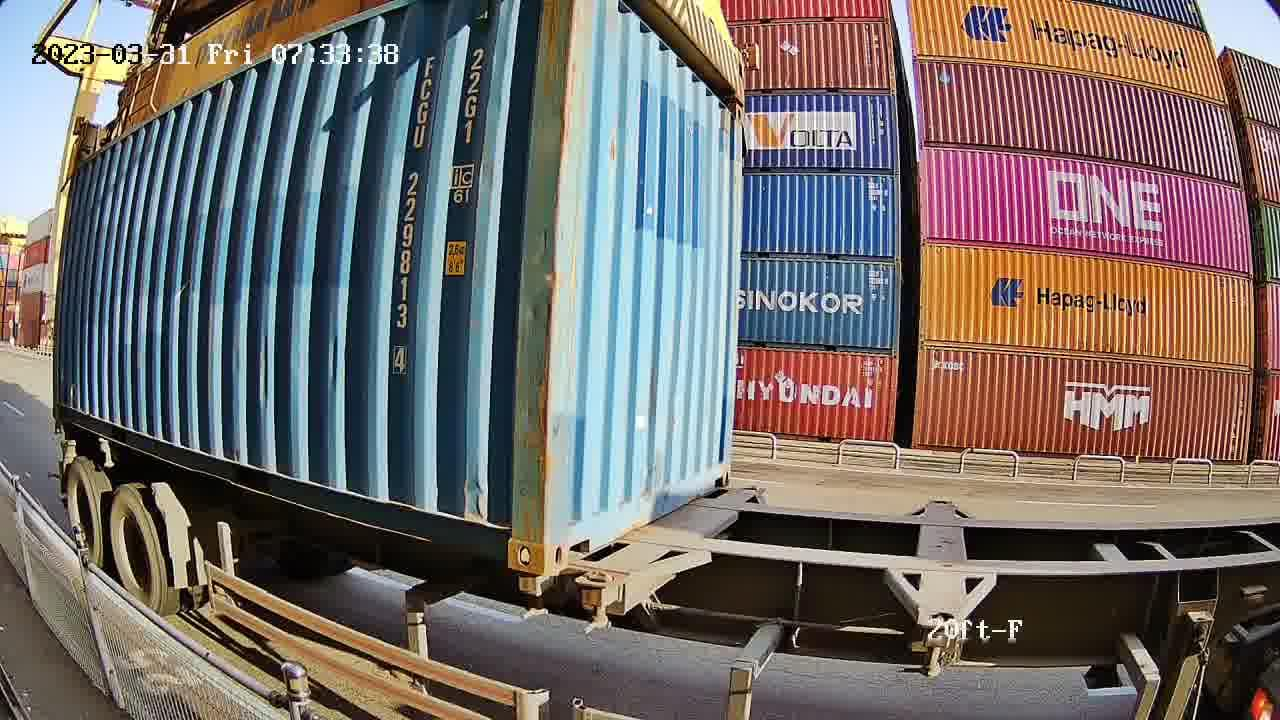Chassis: (579, 488, 762, 584)
Cone: (575, 572, 623, 636), (515, 571, 548, 619)
Hole_L: (544, 500, 591, 575)
Hole_R: (480, 506, 547, 573), (708, 449, 731, 492)
Tire: (109, 486, 164, 616), (66, 462, 105, 575)
